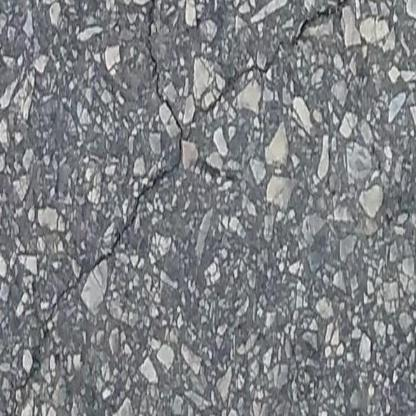Cracks: (214, 0, 354, 100), (146, 0, 169, 94)
